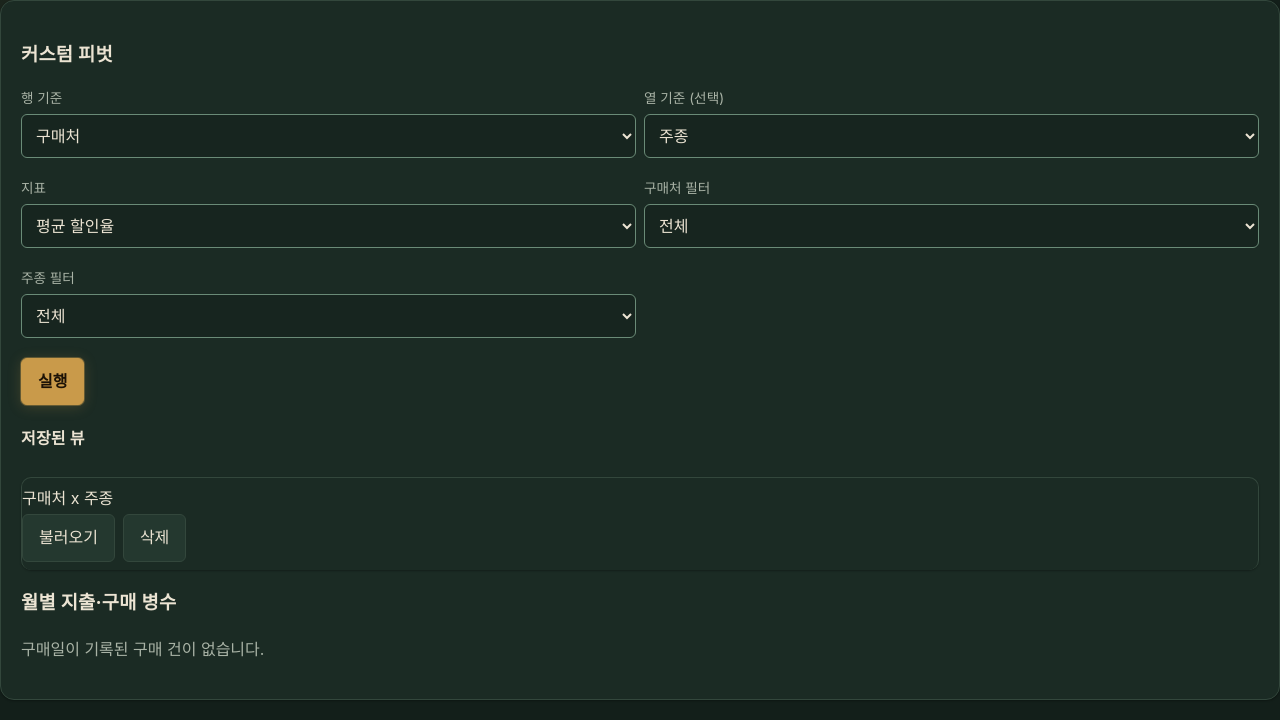
Test: PivotExplorer › 저장된 뷰를 불러오면 다시 실행한다
Click the button "불러오기": (68, 538) [22,514,115,562]
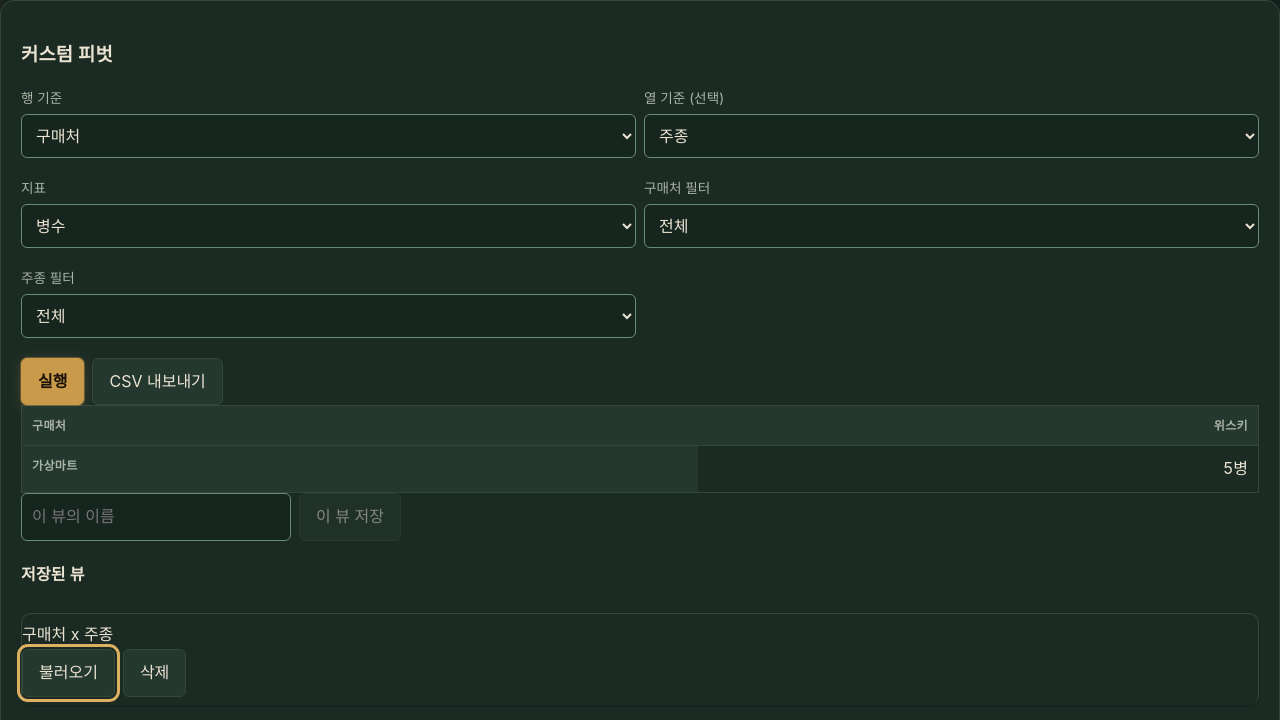
Expected: the column heading "가상마트" is shown, [22,446,698,492]
